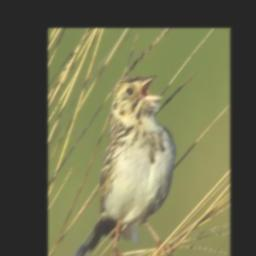Sparrow: (66, 70, 179, 256)
